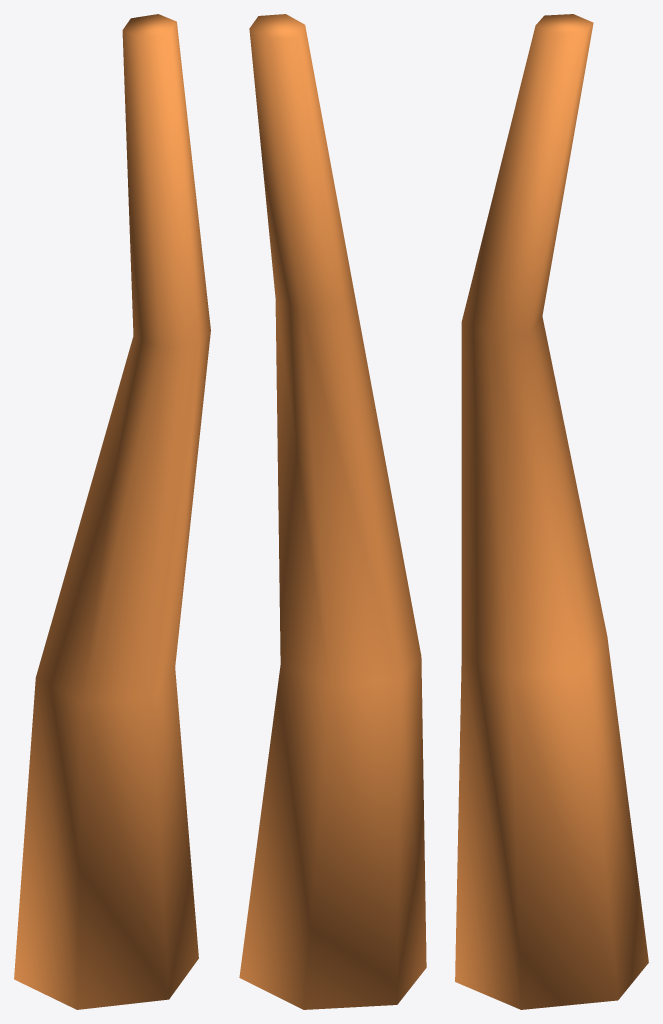
File: TreeTrunk_16.fbx
The picture shows the model from 3 angles, left to right: view 1: azimuth 30°, elevation 25°; view 2: azimuth 150°, elevation 25°; view 3: azimuth 270°, elevation 25°; orthographic projection. The views are drawn at different scales.
Visible parts, largest first — view 1: TreeTrunk_16; view 2: TreeTrunk_16; view 3: TreeTrunk_16.
Boxes of the visible parts, left/top/right/bottom form: TreeTrunk_16: left=14, top=14, right=210, bottom=1009; TreeTrunk_16: left=239, top=14, right=426, bottom=1009; TreeTrunk_16: left=455, top=14, right=648, bottom=1009.
Size of the model in its own units: 57.67 by 330 by 59.17.
